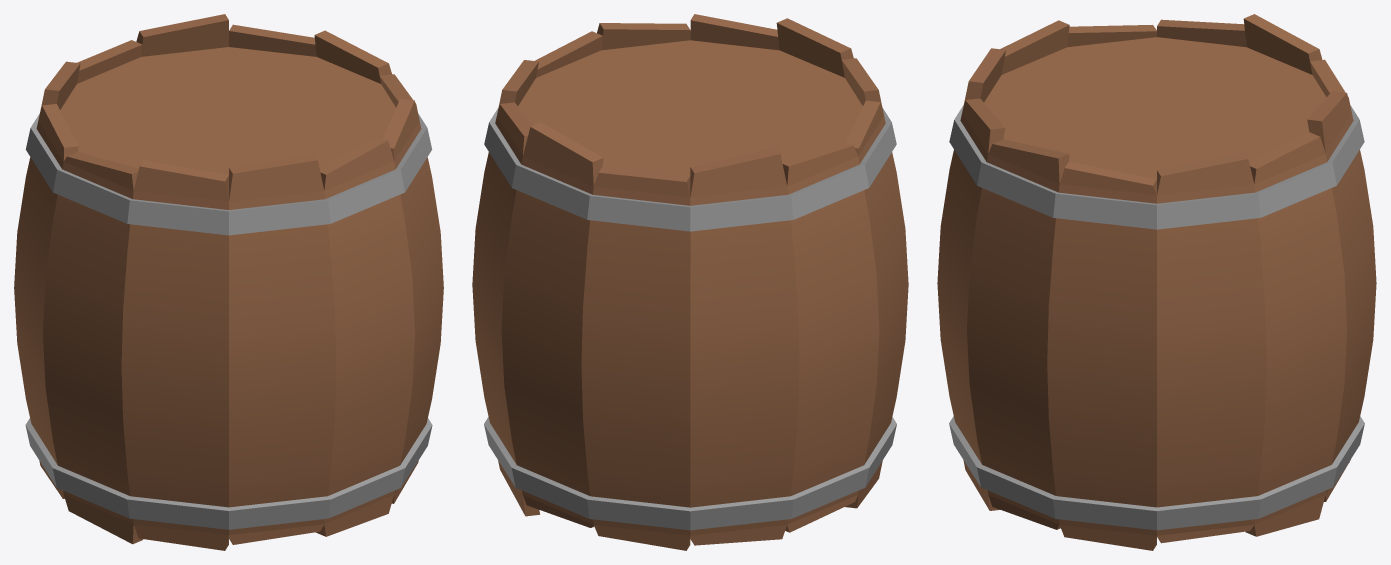
The model's file is WoodBarrel.fbx.
The picture shows the model from 3 angles, left to right: view 1: azimuth 30°, elevation 25°; view 2: azimuth 150°, elevation 25°; view 3: azimuth 270°, elevation 25°; orthographic projection. The views are drawn at different scales.
Parts seen in each view (by area): view 1: WoodenBarrel; view 2: WoodenBarrel; view 3: WoodenBarrel.
Boxes of the visible parts, x1,y1,x2,y2 form: WoodenBarrel: (14,14,443,550); WoodenBarrel: (472,14,908,550); WoodenBarrel: (937,14,1376,550).
Bounding box in the file's own units: 179 × 179 × 178.
